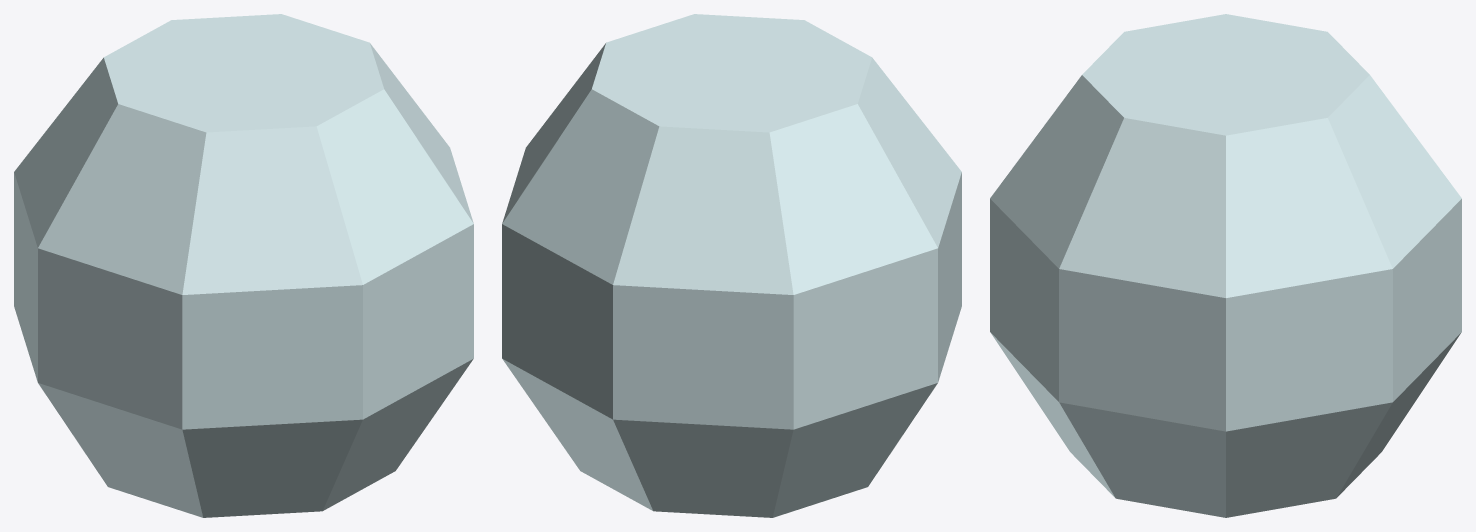
File: stone_smallH.glb
3 renders of one model, left to right at view 1: azimuth 30°, elevation 25°; view 2: azimuth 150°, elevation 25°; view 3: azimuth 270°, elevation 25°, orthographic.
Parts seen in each view (by area): view 1: stone_smallH; view 2: stone_smallH; view 3: stone_smallH.
Boxes of the visible parts, box(x1,y1,x2,y2) form: stone_smallH: box(14, 14, 473, 517); stone_smallH: box(502, 14, 961, 517); stone_smallH: box(990, 14, 1461, 517).
Size of the model in its own units: 0.4618 by 0.4074 by 0.4618.
1 material, 1 textured.
